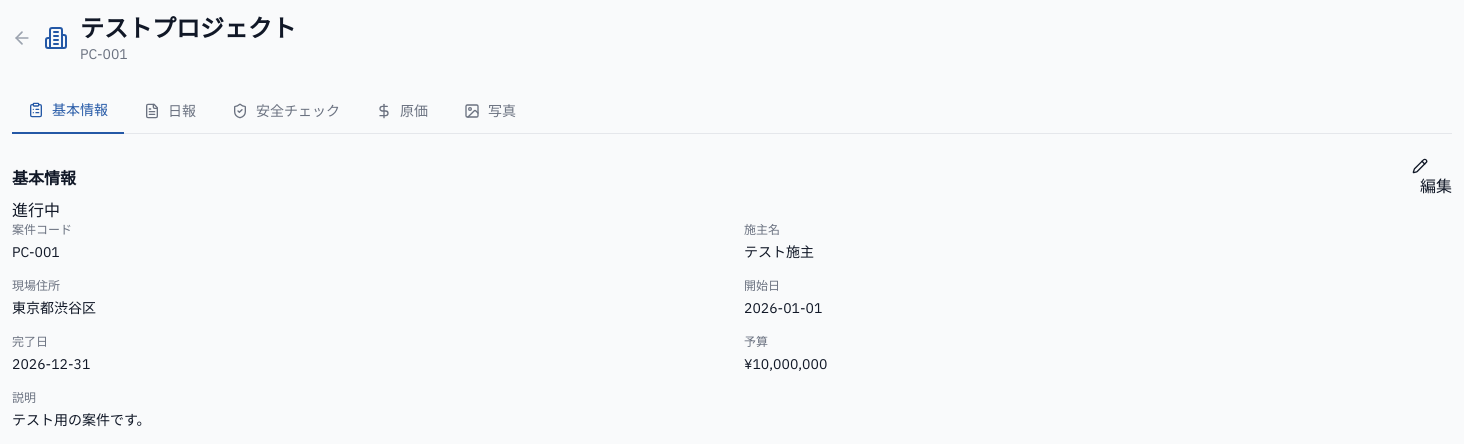
Scenario: ProjectDetailPage › 安全チェックタブに切り替えるとデータなし状態が表示される
This screenshot has width=1464, height=444.
expect the heading "テストプロジェクト" is shown: met, box [80, 12, 296, 44]
Click the button "安全チェック".
click(286, 111)  # box [216, 88, 356, 134]
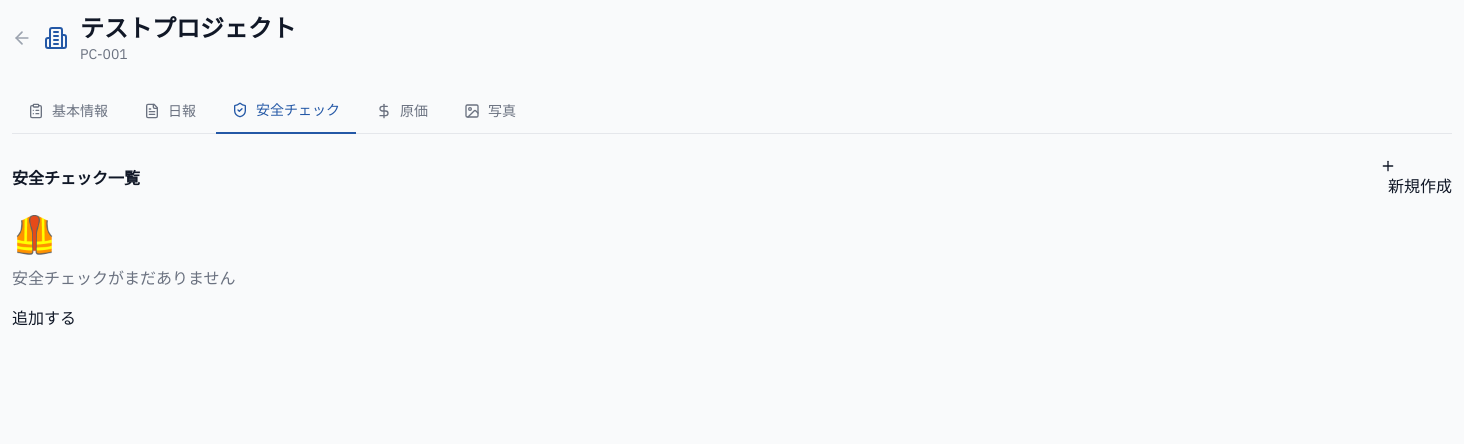
expect the text "安全チェックがまだありません" is shown: met, box [12, 268, 236, 288]
